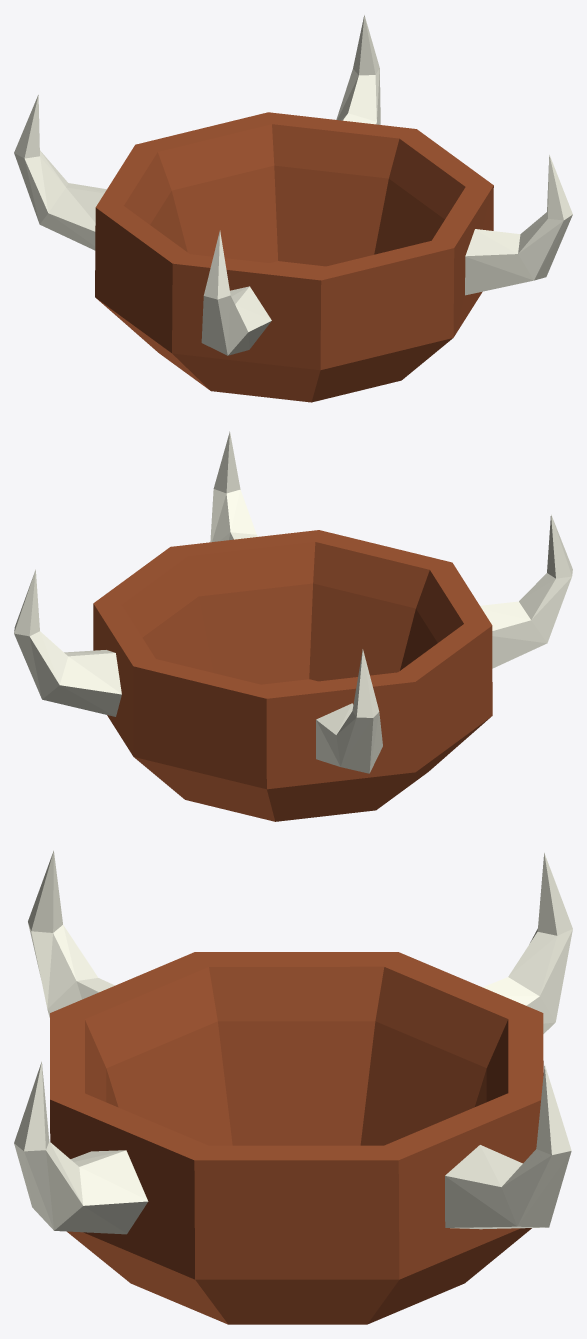
The model's file is Prop_Savage_Tribal_Timber_Horns_Brazier_Fire_Pit_01.FBX.
The picture shows the model from 3 angles, top to bottom: view 1: azimuth 30°, elevation 25°; view 2: azimuth 150°, elevation 25°; view 3: azimuth 270°, elevation 25°; orthographic projection. The views are drawn at different scales.
Visible parts, largest first — view 1: Prop_Savage_Tribal_Timber_Horns_Brazier_Fire_Pit_01; view 2: Prop_Savage_Tribal_Timber_Horns_Brazier_Fire_Pit_01; view 3: Prop_Savage_Tribal_Timber_Horns_Brazier_Fire_Pit_01.
Part boxes in pixels (left/top/right/bottom): Prop_Savage_Tribal_Timber_Horns_Brazier_Fire_Pit_01: left=14, top=15, right=572, bottom=402; Prop_Savage_Tribal_Timber_Horns_Brazier_Fire_Pit_01: left=14, top=431, right=572, bottom=821; Prop_Savage_Tribal_Timber_Horns_Brazier_Fire_Pit_01: left=14, top=850, right=572, bottom=1324.
Size of the model in its own units: 2040 by 1287 by 2031.
